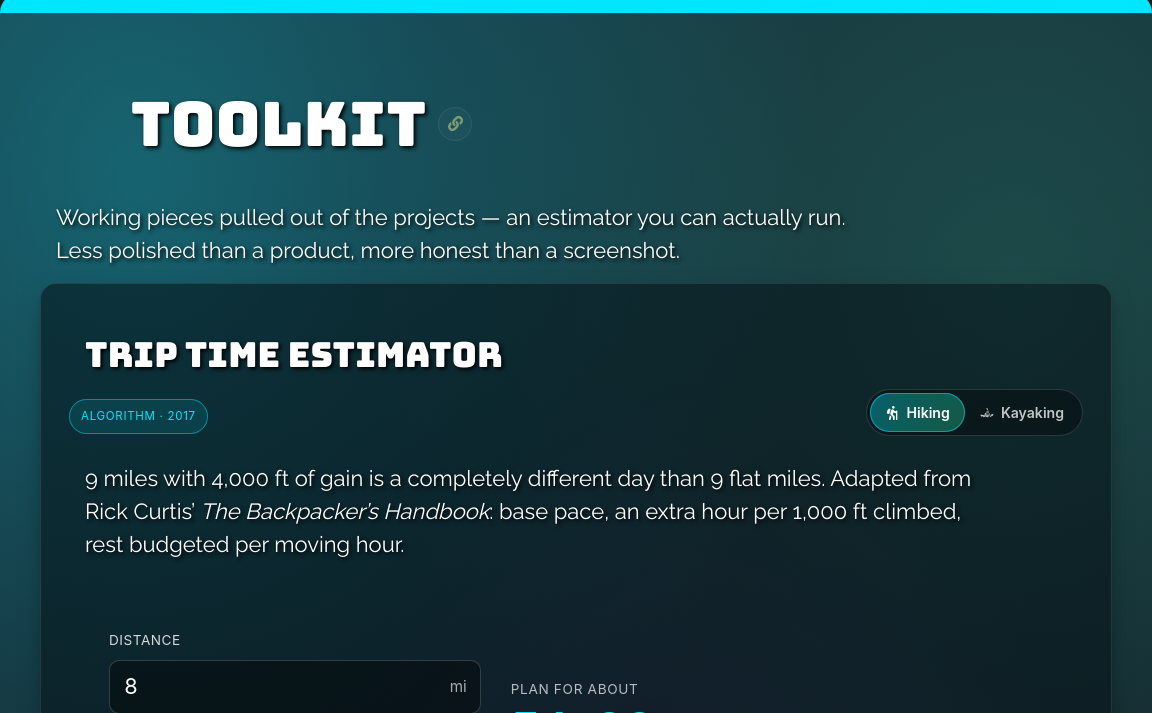
Scenario: Toolkit › recalculates as the hiker changes distance
This screenshot has width=1152, height=713.
Replace the text in the number field with id "hike-miles" with "16" at (295, 687), box [109,660,481,712]
(page scrolled)
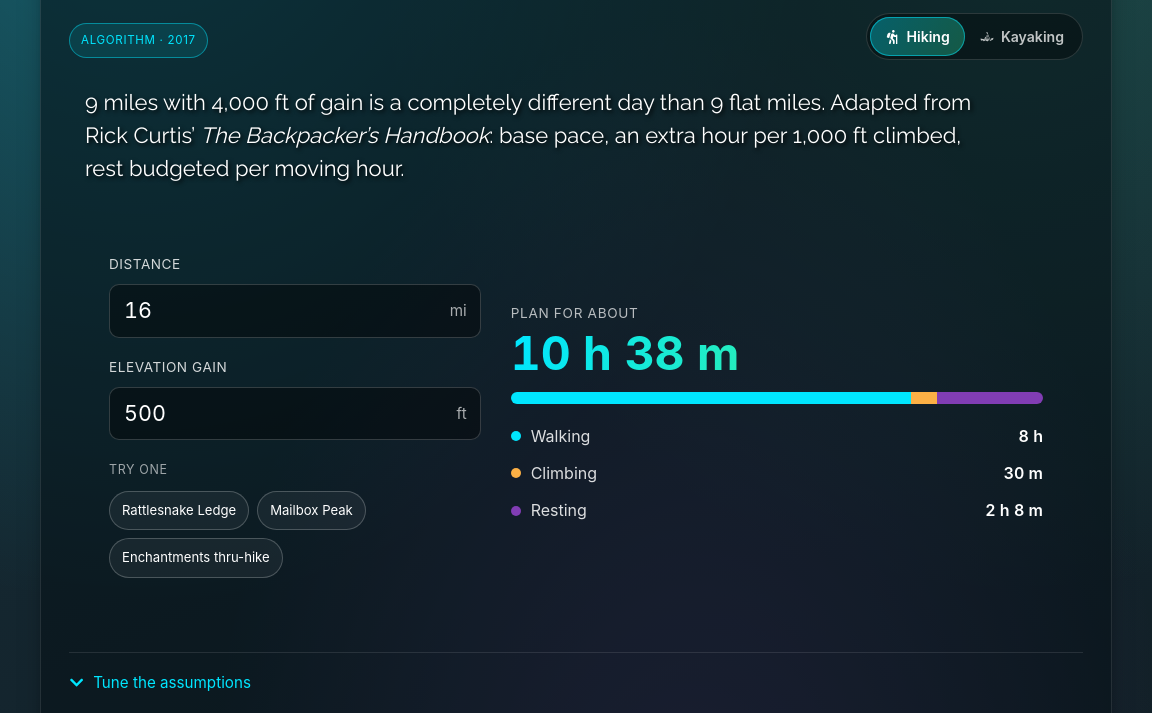
Now the text with test id "hiking-total" reads "10 h 38 m", box [511,325,739,381]
